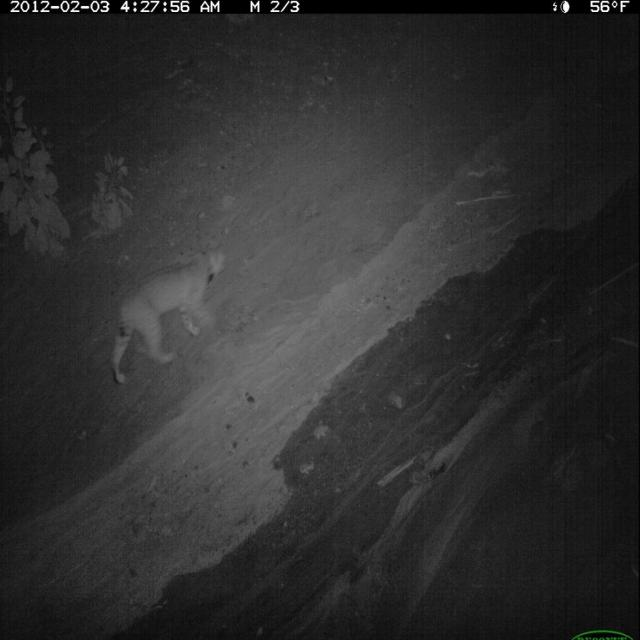bobcat: (108, 237, 232, 391)
